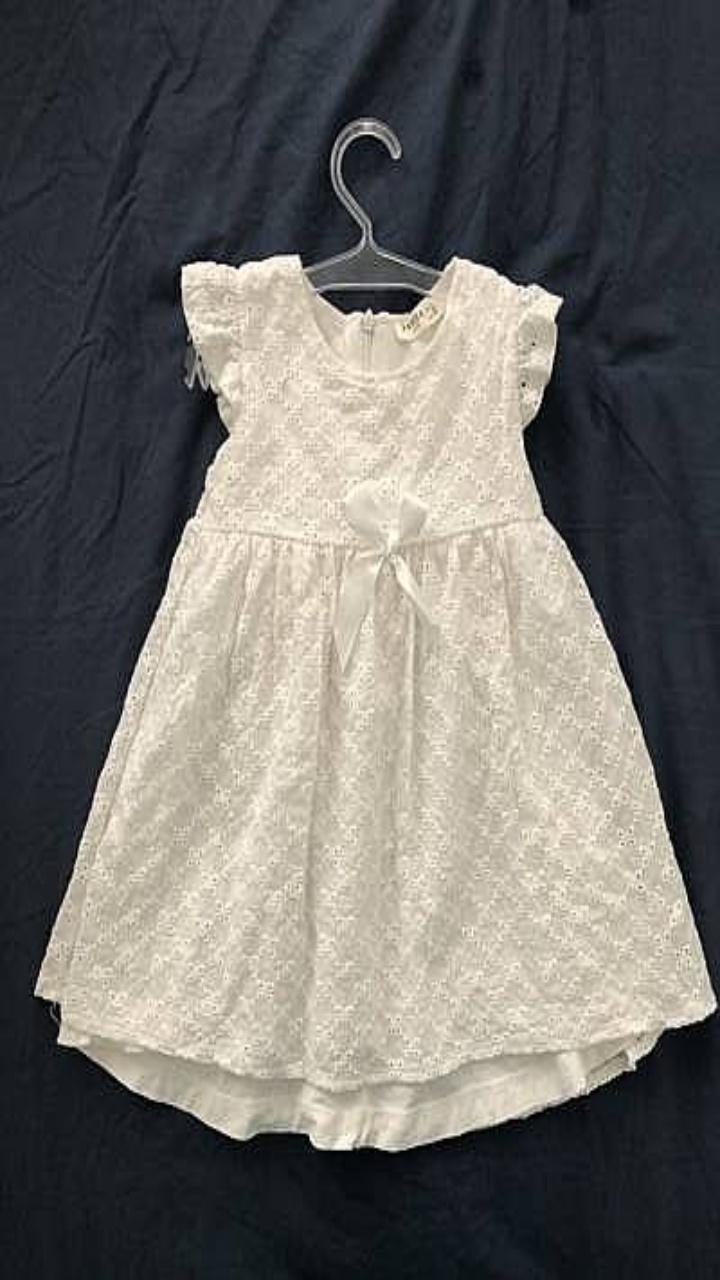Dresses: (34, 254, 716, 1149)
